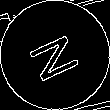N_NE: (24, 26, 86, 84)
